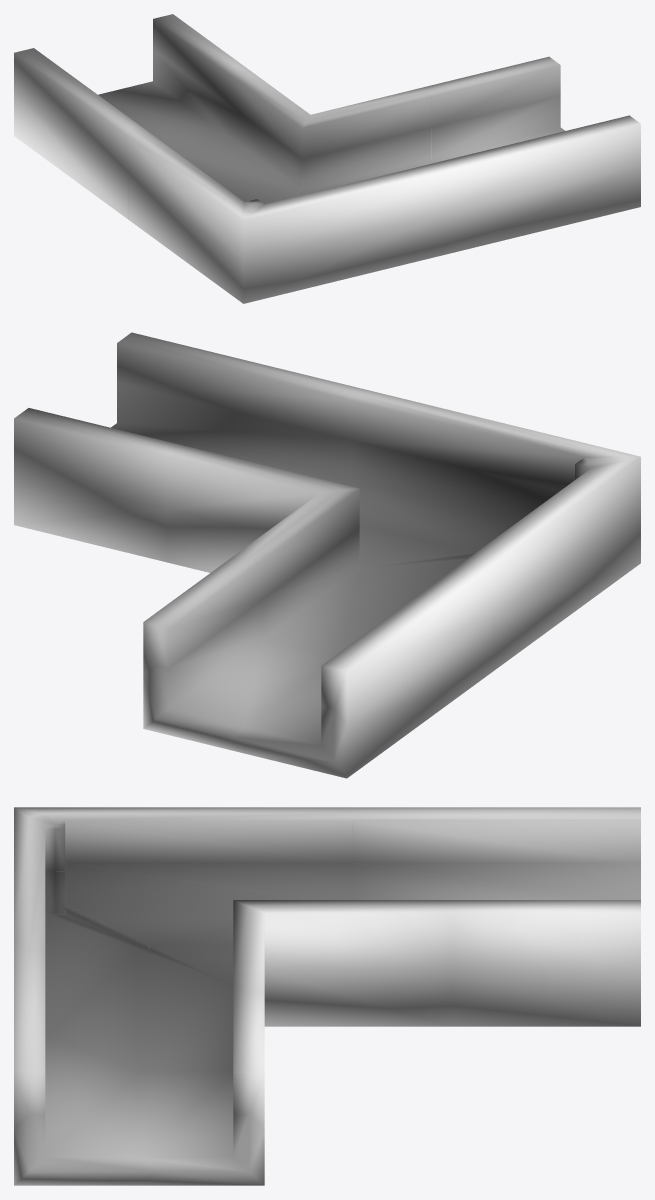
3 views of the same model, one above another, from view 1: azimuth 30°, elevation 25°; view 2: azimuth 150°, elevation 25°; view 3: azimuth 270°, elevation 25° (orthographic). The views are drawn at different scales.
Parts seen in each view (by area): view 1: defaultobject; view 2: defaultobject; view 3: defaultobject.
Boxes of the visible parts, x1,y1,x2,y2 form: defaultobject: (14,14,640,303); defaultobject: (14,332,640,778); defaultobject: (14,807,640,1185).
Size of the model in its own units: 0.625 by 0.125 by 0.625.
1 material, 1 textured.
